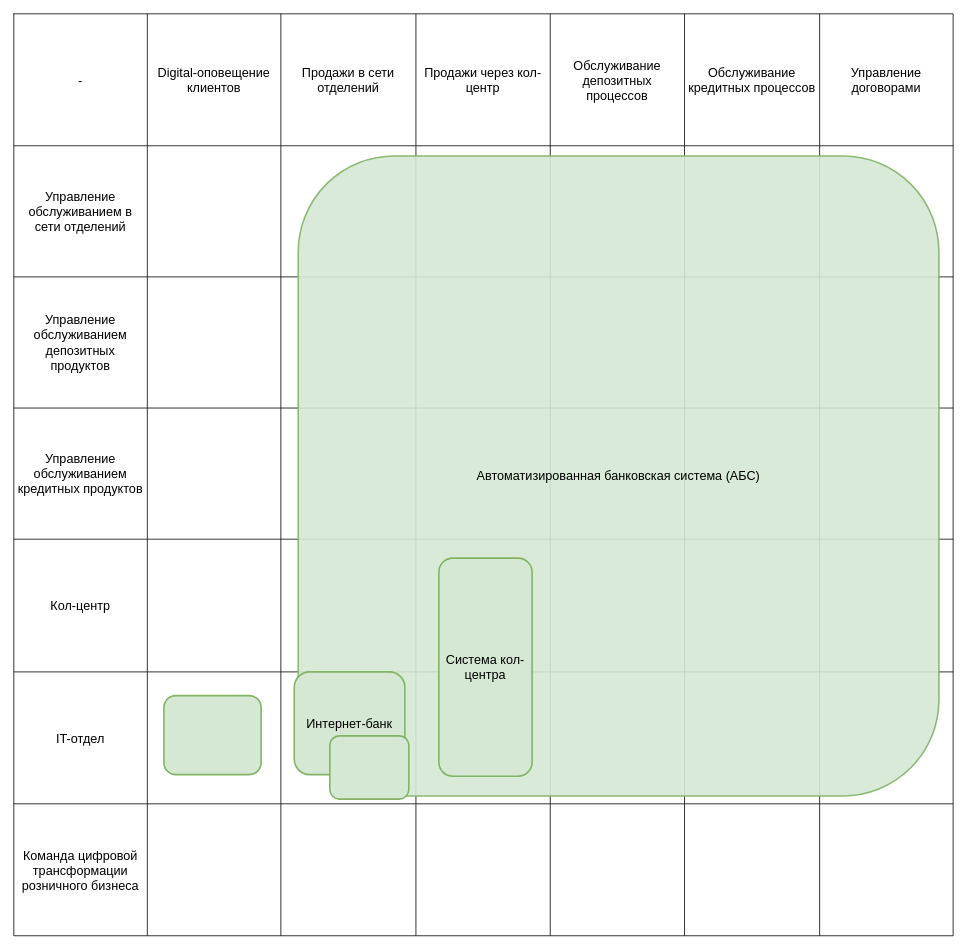
The diagram is 967 pixels wide and 950 high, and some of its shapes have lost their labels. The centre of each missing label's shape, as x and y in pixels:
"Сайт" belongs at (369,767).
"СМС-шлюз телеком-оператора" belongs at (212,734).
